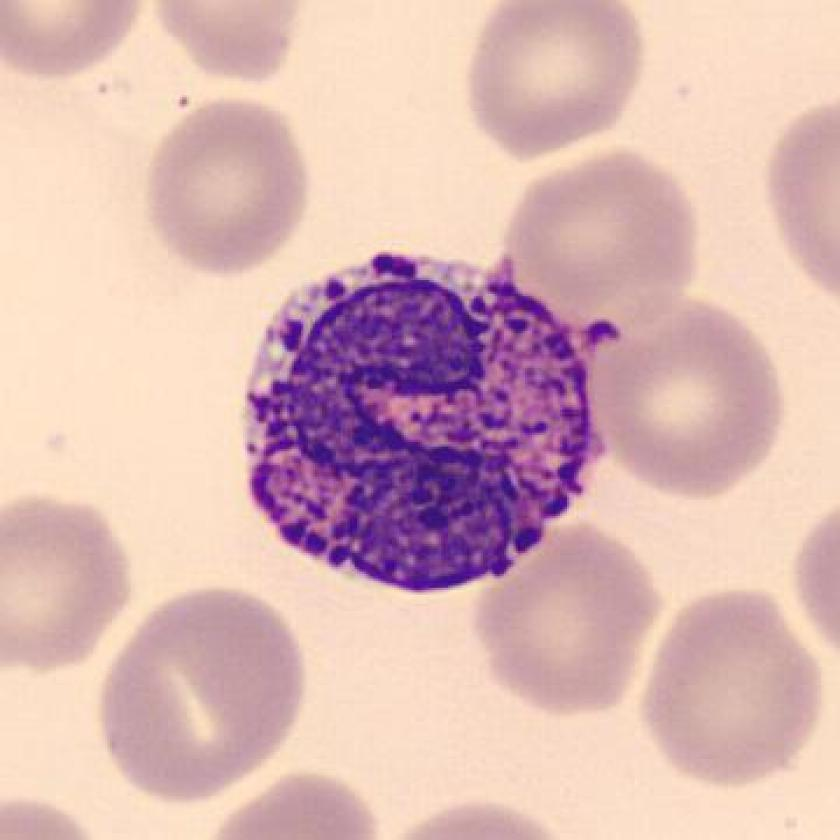basophil: (235, 242, 613, 598)
